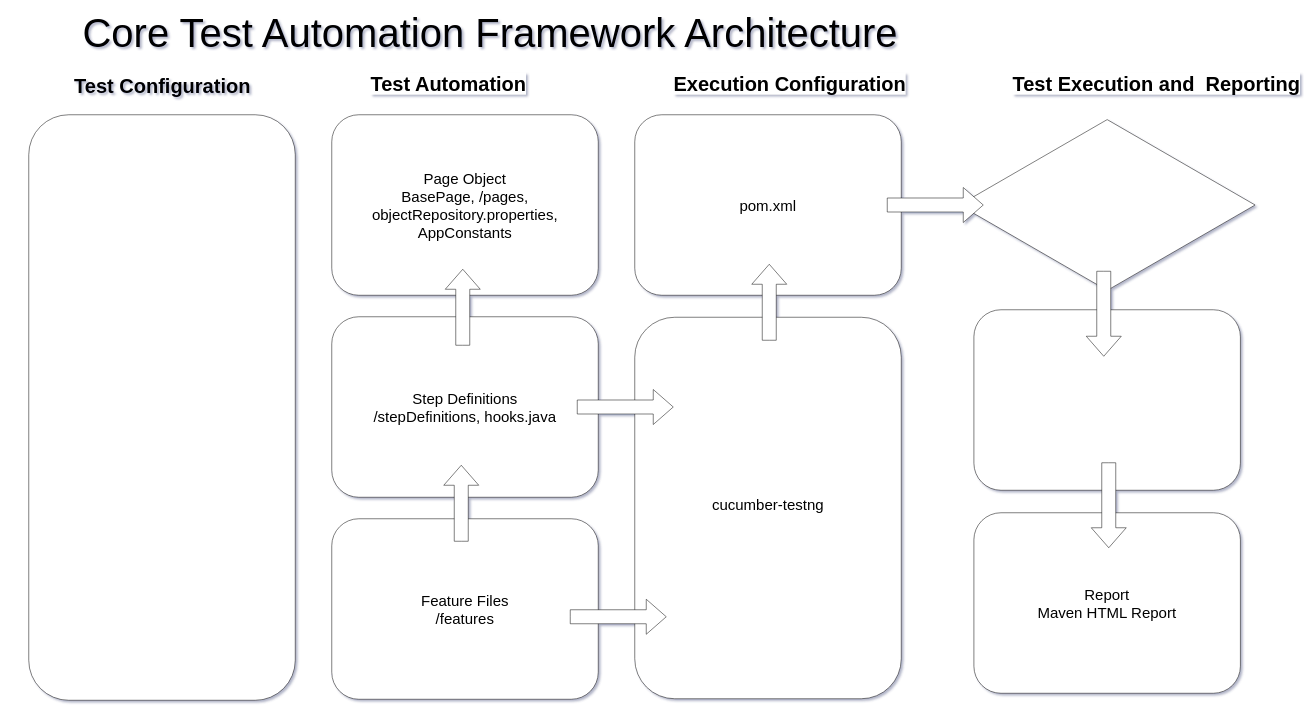
Some shapes in this 1312 by 712 pixel diagram are drawn without their labels. Here are the shapes that lost their labels. From the top down, the box of each, then its label:
(959, 116, 1255, 294): Test Execution
(28, 114, 295, 700): WebDriver Config PlaywrightDriver, config.properties, Environment
(973, 309, 1240, 490): Runners /runners
